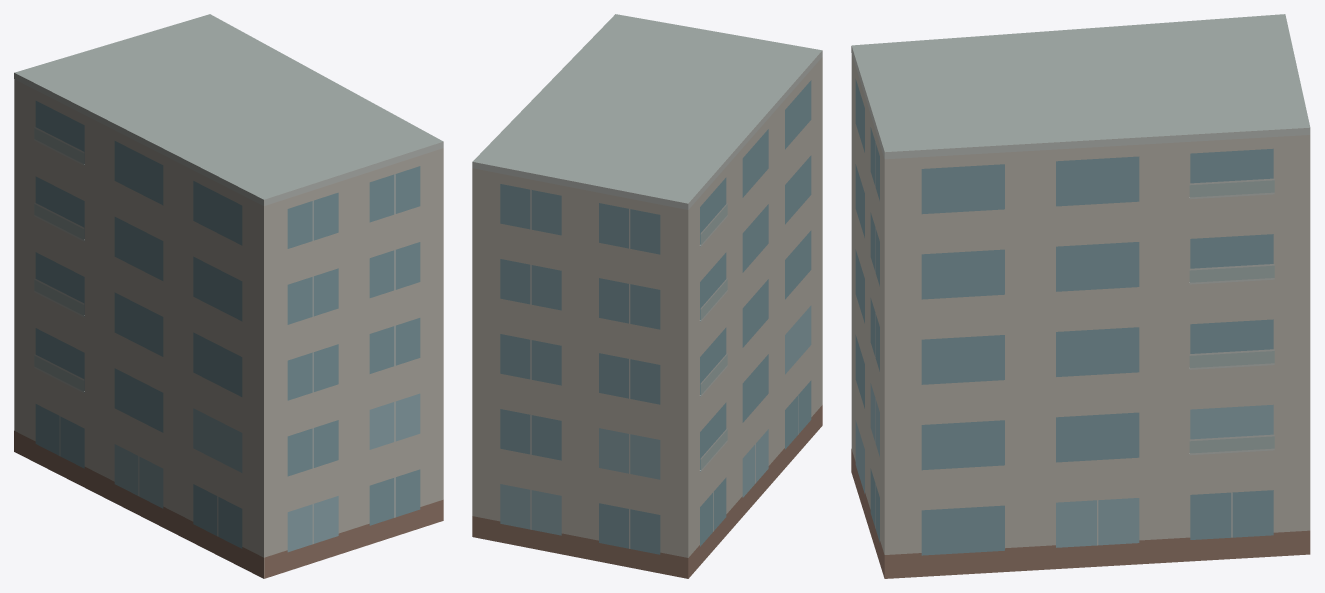
The model's file is survey-upis-32699121.glb.
3 renders of one model, left to right at view 1: azimuth 30°, elevation 25°; view 2: azimuth 150°, elevation 25°; view 3: azimuth 270°, elevation 25°, orthographic. The views are drawn at different scales.
Visible parts, largest first — view 1: survey-upis-32699121.tmp; view 2: survey-upis-32699121.tmp; view 3: survey-upis-32699121.tmp.
Part boxes in pixels (box(x1,y1,x2,y2)): survey-upis-32699121.tmp: box(14, 14, 443, 578); survey-upis-32699121.tmp: box(472, 14, 822, 578); survey-upis-32699121.tmp: box(851, 14, 1310, 578).
Size of the model in its own units: 10.01 by 14.4 by 14.05.
